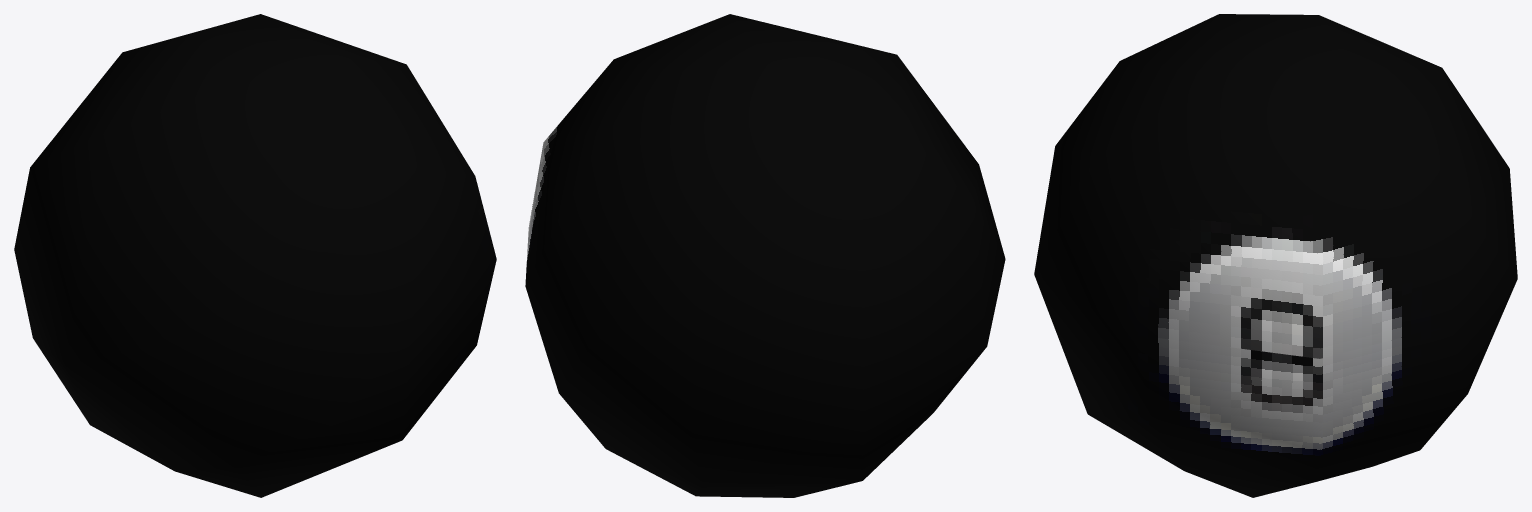
File: WorldItem_HCMagic8Ball.fbx
3 views of the same model, side by side, from view 1: azimuth 30°, elevation 25°; view 2: azimuth 150°, elevation 25°; view 3: azimuth 270°, elevation 25° (orthographic). The views are drawn at different scales.
Visible parts, largest first — view 1: Sphere; view 2: Sphere; view 3: Sphere.
Part boxes in pixels (bbox=[...]): Sphere: bbox=[14, 14, 496, 497]; Sphere: bbox=[525, 14, 1005, 497]; Sphere: bbox=[1034, 14, 1517, 497].
Size of the model in its own units: 0.0832 by 0.083 by 0.0827.
